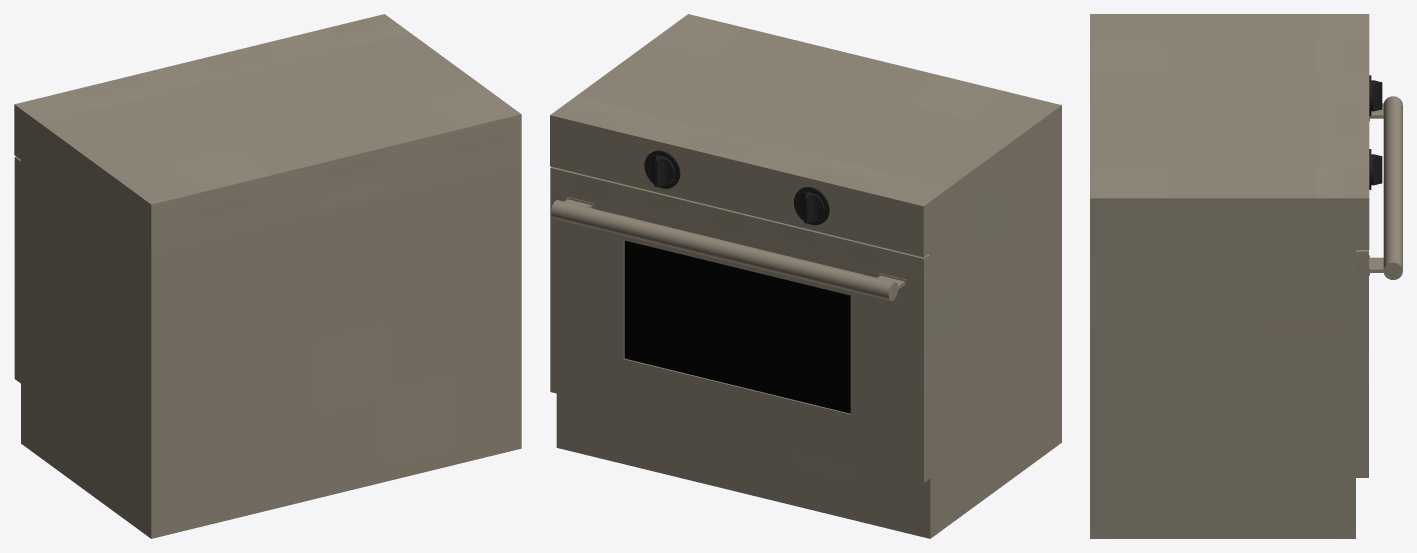
File: KitchenOven04.glb
The picture shows the model from 3 angles, left to right: view 1: azimuth 30°, elevation 25°; view 2: azimuth 150°, elevation 25°; view 3: azimuth 270°, elevation 25°; orthographic projection.
Visible parts, largest first — view 1: KitchenOven04_model, KitchenOven04_Door01; view 2: KitchenOven04_model, KitchenOven04_Door01, KitchenOven04_Glass, KitchenOven04_Knob01, KitchenOven04_Knob02; view 3: KitchenOven04_model, KitchenOven04_Door01.
Boxes of the visible parts, bbox=[...] form: KitchenOven04_model: bbox=[14, 14, 521, 538]; KitchenOven04_Door01: bbox=[14, 156, 20, 383]; KitchenOven04_model: bbox=[550, 14, 1061, 538]; KitchenOven04_Door01: bbox=[550, 167, 930, 482]; KitchenOven04_Glass: bbox=[624, 240, 850, 413]; KitchenOven04_Knob01: bbox=[647, 155, 675, 186]; KitchenOven04_Knob02: bbox=[797, 192, 824, 223]; KitchenOven04_model: bbox=[1090, 14, 1371, 538]; KitchenOven04_Door01: bbox=[1356, 96, 1402, 477].
Bounding box in the file's own units: 1.34 × 1.15 × 0.9599.
Materials: 2 (1 with a texture image).
